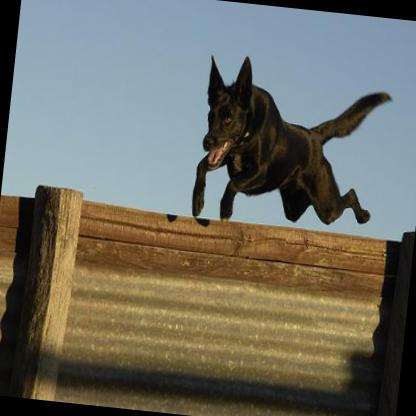kelpie: (189, 47, 393, 231)
